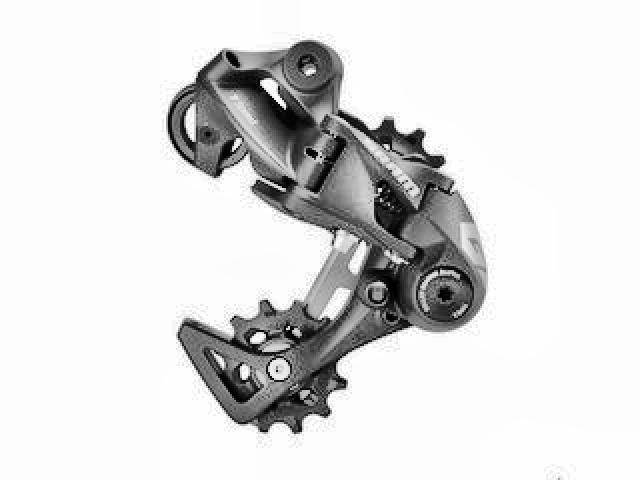rear_derailleur: (165, 35, 488, 434)
